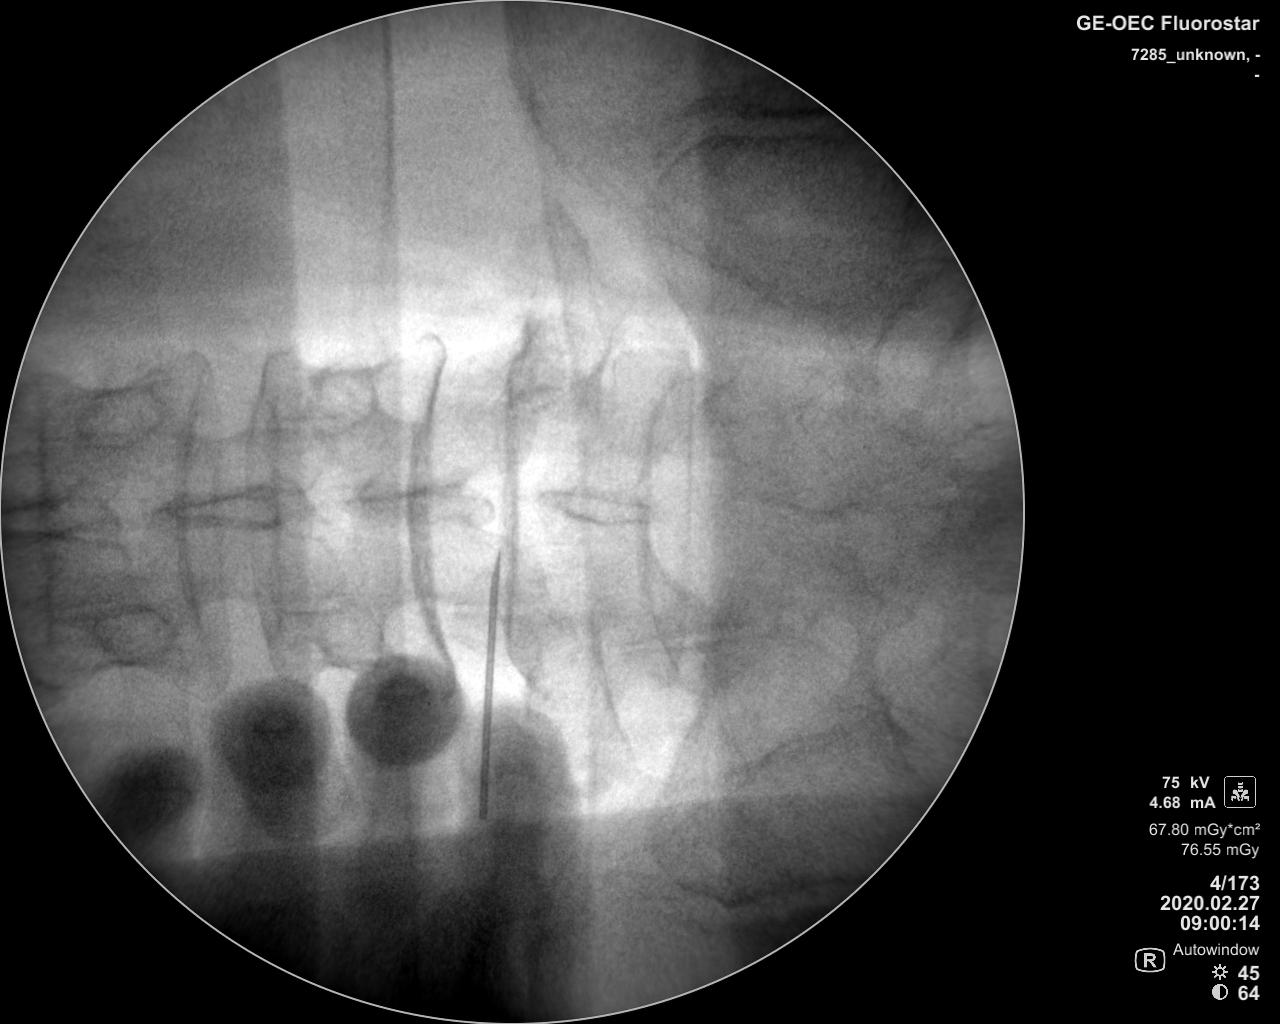eyes: (283, 359, 382, 436), (284, 597, 380, 673), (69, 385, 166, 453), (95, 602, 181, 668)
line: (176, 345, 239, 675), (636, 354, 697, 685), (408, 330, 456, 667), (243, 345, 289, 676), (31, 374, 64, 668), (504, 335, 528, 659)
nose: (341, 480, 503, 532), (158, 482, 304, 529), (1, 493, 127, 540), (539, 482, 655, 533)
